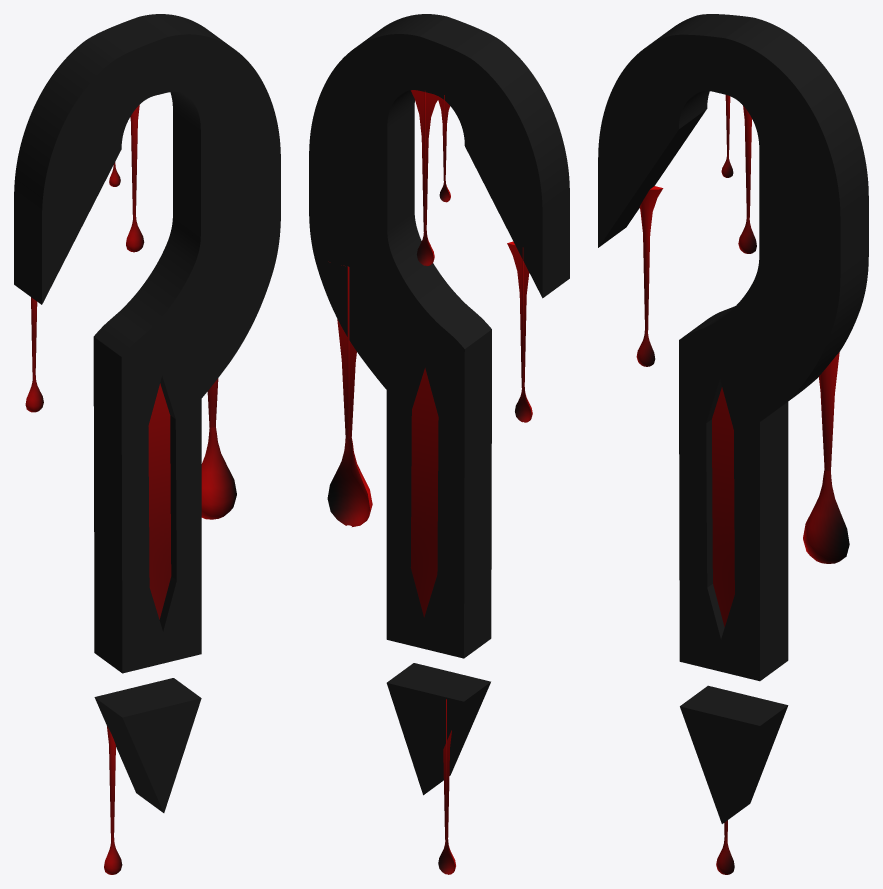
File: Question.FBX
The picture shows the model from 3 angles, left to right: view 1: azimuth 30°, elevation 25°; view 2: azimuth 150°, elevation 25°; view 3: azimuth 330°, elevation 25°; orthographic projection. The views are drawn at different scales.
Visible parts, largest first — view 1: Question, Question_Element, Blood_150, Blood_138, Blood_139, Blood_140; view 2: Question, Question_Element, Blood_150, Blood_138, Blood_140, Blood_139, Blood_141; view 3: Question, Question_Element, Blood_150, Blood_140, Blood_138.
Boxes of the visible parts, x1=… form: Question: x1=14, y1=14, x2=280, y2=812; Question_Element: x1=148, y1=383, x2=171, y2=619; Blood_150: x1=201, y1=378, x2=236, y2=519; Blood_138: x1=126, y1=105, x2=144, y2=252; Blood_139: x1=104, y1=726, x2=122, y2=874; Blood_140: x1=25, y1=297, x2=43, y2=412; Question: x1=309, y1=14, x2=569, y2=795; Question_Element: x1=410, y1=368, x2=438, y2=617; Blood_150: x1=327, y1=266, x2=372, y2=526; Blood_138: x1=411, y1=90, x2=437, y2=265; Blood_140: x1=507, y1=241, x2=532, y2=422; Blood_139: x1=438, y1=699, x2=455, y2=874; Blood_141: x1=436, y1=95, x2=450, y2=202; Question: x1=598, y1=14, x2=868, y2=823; Question_Element: x1=712, y1=387, x2=734, y2=626; Blood_150: x1=803, y1=352, x2=849, y2=563; Blood_140: x1=636, y1=186, x2=663, y2=366; Blood_138: x1=738, y1=106, x2=756, y2=253.
Size of the model in its own units: 24.7 by 84.06 by 5.04.
Materials: 2 (1 with a texture image).
